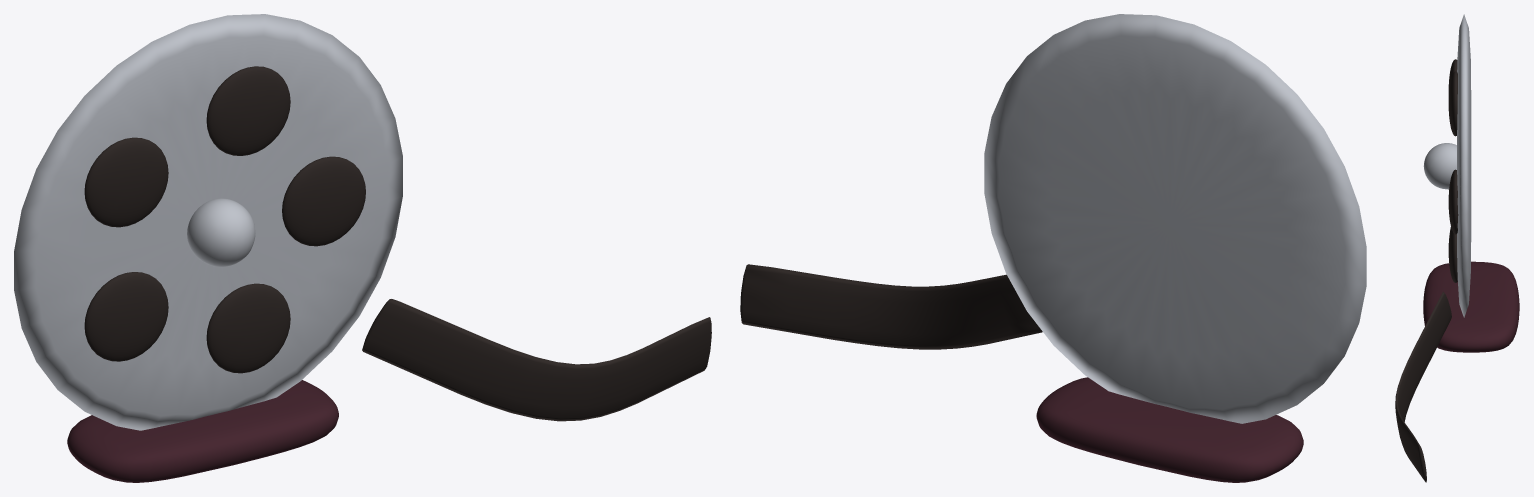
The model's file is deco_rollo_pelicula.glb.
3 renders of one model, left to right at view 1: azimuth 30°, elevation 25°; view 2: azimuth 150°, elevation 25°; view 3: azimuth 270°, elevation 25°, orthographic. The views are drawn at different scales.
Parts seen in each view (by area): view 1: carrete.001, cinta.001, base rollo.001, hueco carrete 0.001, hueco carrete 1.001, hueco carrete 3.001, hueco carrete 4.001, hueco carrete 2.001, eje carrete.001; view 2: carrete.001, cinta.001, base rollo.001; view 3: base rollo.001, carrete.001, cinta.001, eje carrete.001, hueco carrete 0.001, hueco carrete 1.001, hueco carrete 4.001.
Part boxes in pixels (box(x1,y1,x2,y2)): carrete.001: box(14, 14, 402, 430); cinta.001: box(362, 299, 711, 421); base rollo.001: box(67, 380, 338, 482); hueco carrete 0.001: box(282, 156, 365, 246); hueco carrete 1.001: box(206, 66, 290, 155); hueco carrete 3.001: box(84, 272, 168, 361); hueco carrete 4.001: box(206, 283, 290, 373); hueco carrete 2.001: box(84, 137, 168, 227); eje carrete.001: box(187, 198, 255, 266); carrete.001: box(984, 14, 1366, 423); cinta.001: box(740, 264, 1042, 349); base rollo.001: box(1036, 377, 1303, 482); base rollo.001: box(1423, 261, 1519, 352); carrete.001: box(1457, 14, 1471, 317); cinta.001: box(1395, 292, 1451, 482); eje carrete.001: box(1423, 143, 1456, 189); hueco carrete 0.001: box(1448, 169, 1458, 234); hueco carrete 1.001: box(1448, 71, 1457, 136); hueco carrete 4.001: box(1448, 227, 1457, 282).
Bounding box in the file's own units: 0.4272 × 0.2756 × 0.1022.
